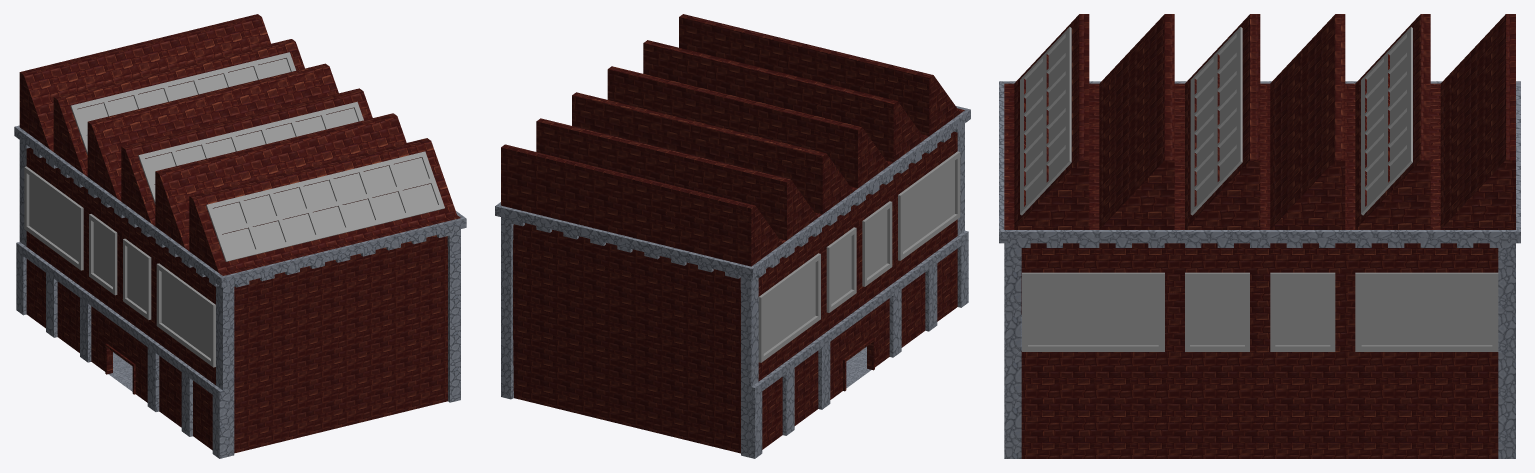
Rendered from DirtFactory.FBX.
The picture shows the model from 3 angles, left to right: view 1: azimuth 30°, elevation 25°; view 2: azimuth 150°, elevation 25°; view 3: azimuth 270°, elevation 25°; orthographic projection. The views are drawn at different scales.
Visible parts, largest first — view 1: Walls, Roof, Window, Frame, Floor; view 2: Walls, Roof, Window, Frame, Floor; view 3: Roof, Walls, Window, Frame.
Part boxes in pixels (<box>): Walls: <box>14,131,466,458</box>; Roof: <box>14,14,466,282</box>; Window: <box>29,58,437,358</box>; Frame: <box>24,166,215,367</box>; Floor: <box>108,352,132,391</box>; Walls: <box>495,114,970,458</box>; Roof: <box>495,14,970,273</box>; Window: <box>763,161,954,353</box>; Frame: <box>758,151,960,362</box>; Floor: <box>846,346,871,388</box>; Roof: <box>999,14,1520,237</box>; Walls: <box>999,237,1520,458</box>; Window: <box>1026,37,1492,345</box>; Frame: <box>1022,272,1498,351</box>.
Bounding box in the file's own units: 418 × 387 × 612.
4 materials, 2 textured.
